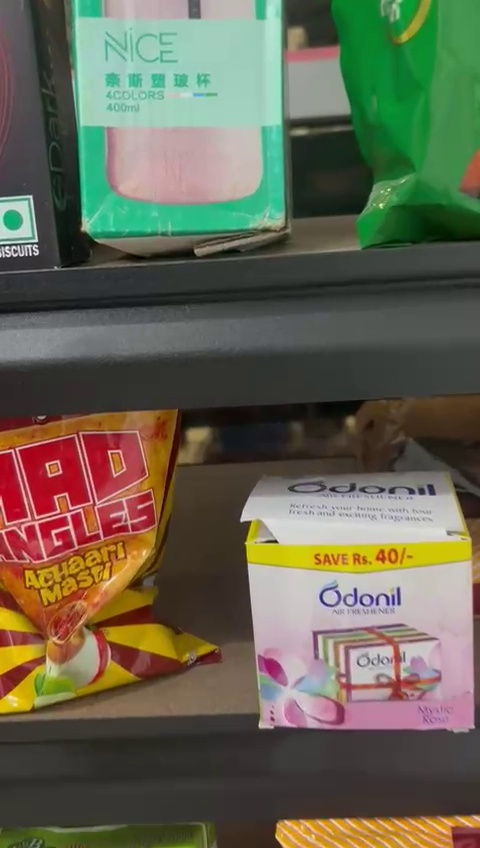Odonil: (249, 479, 476, 734)
